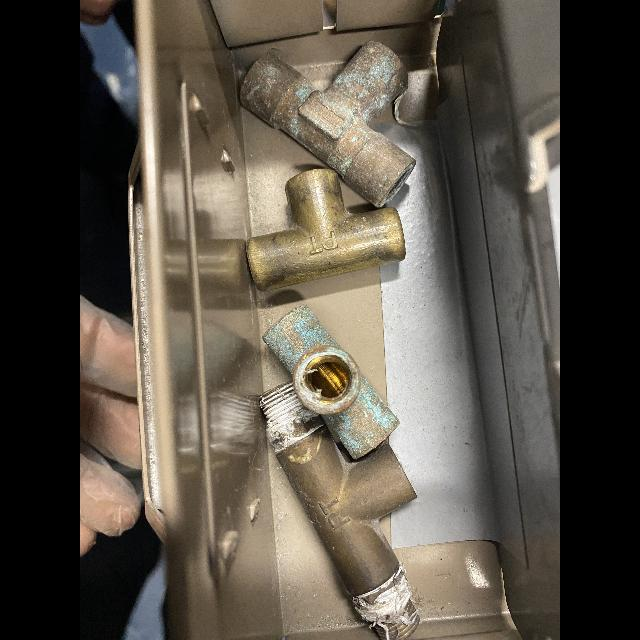Brass: (263, 380, 420, 640), (238, 40, 417, 209), (261, 304, 400, 461), (247, 169, 405, 290)
